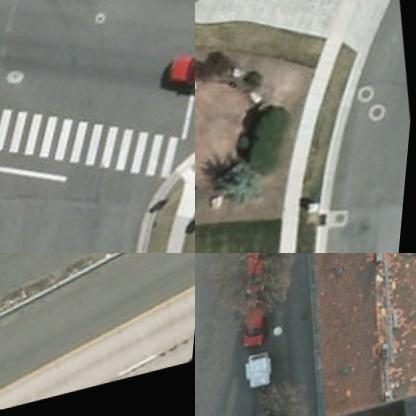car: (230, 298, 276, 352), (232, 253, 275, 305)
pickup: (165, 37, 194, 112)
